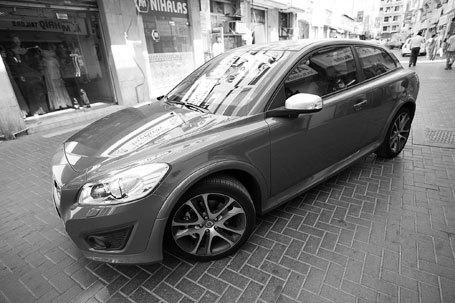car: (45, 39, 419, 272)
